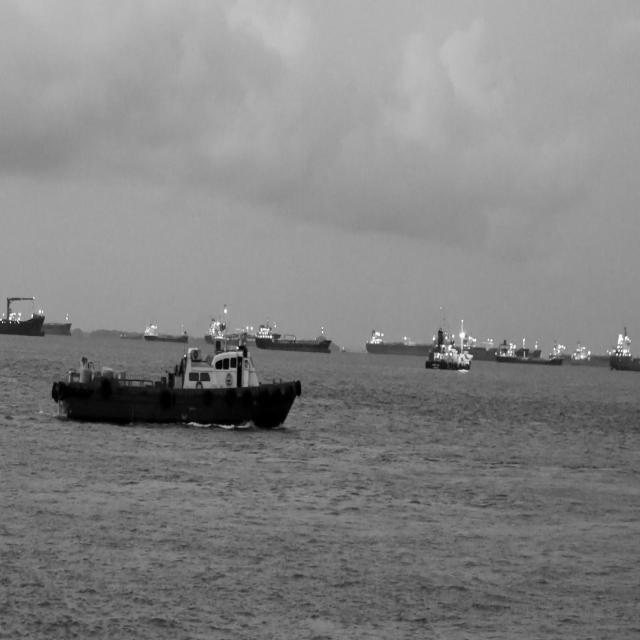ship: (49, 328, 302, 432), (366, 302, 542, 360), (256, 318, 332, 352), (425, 320, 473, 371), (495, 336, 567, 365), (143, 302, 190, 346), (0, 295, 46, 337), (204, 315, 258, 348), (609, 325, 640, 372), (568, 338, 610, 365), (43, 312, 72, 337), (120, 331, 143, 342)
